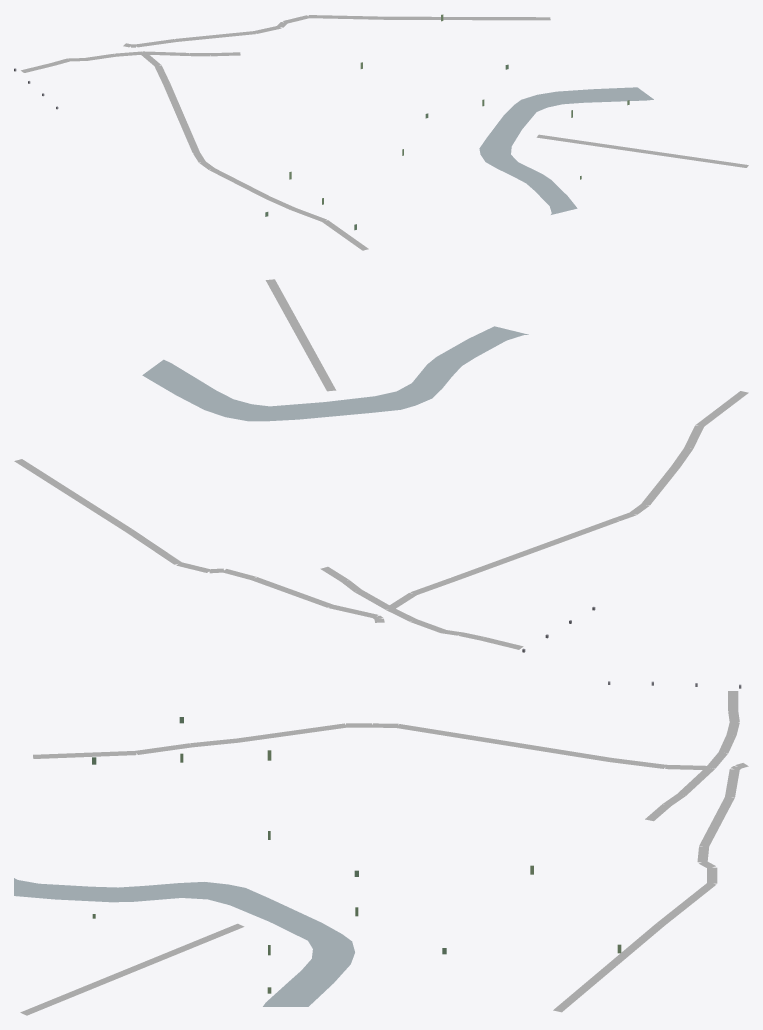
3 renders of one model, top to bottom at view 1: azimuth 30°, elevation 25°; view 2: azimuth 150°, elevation 25°; view 3: azimuth 270°, elevation 25°, orthographic. The views are drawn at different scales.
Bounding box in the file's own units: 508 × 17.56 × 504.
